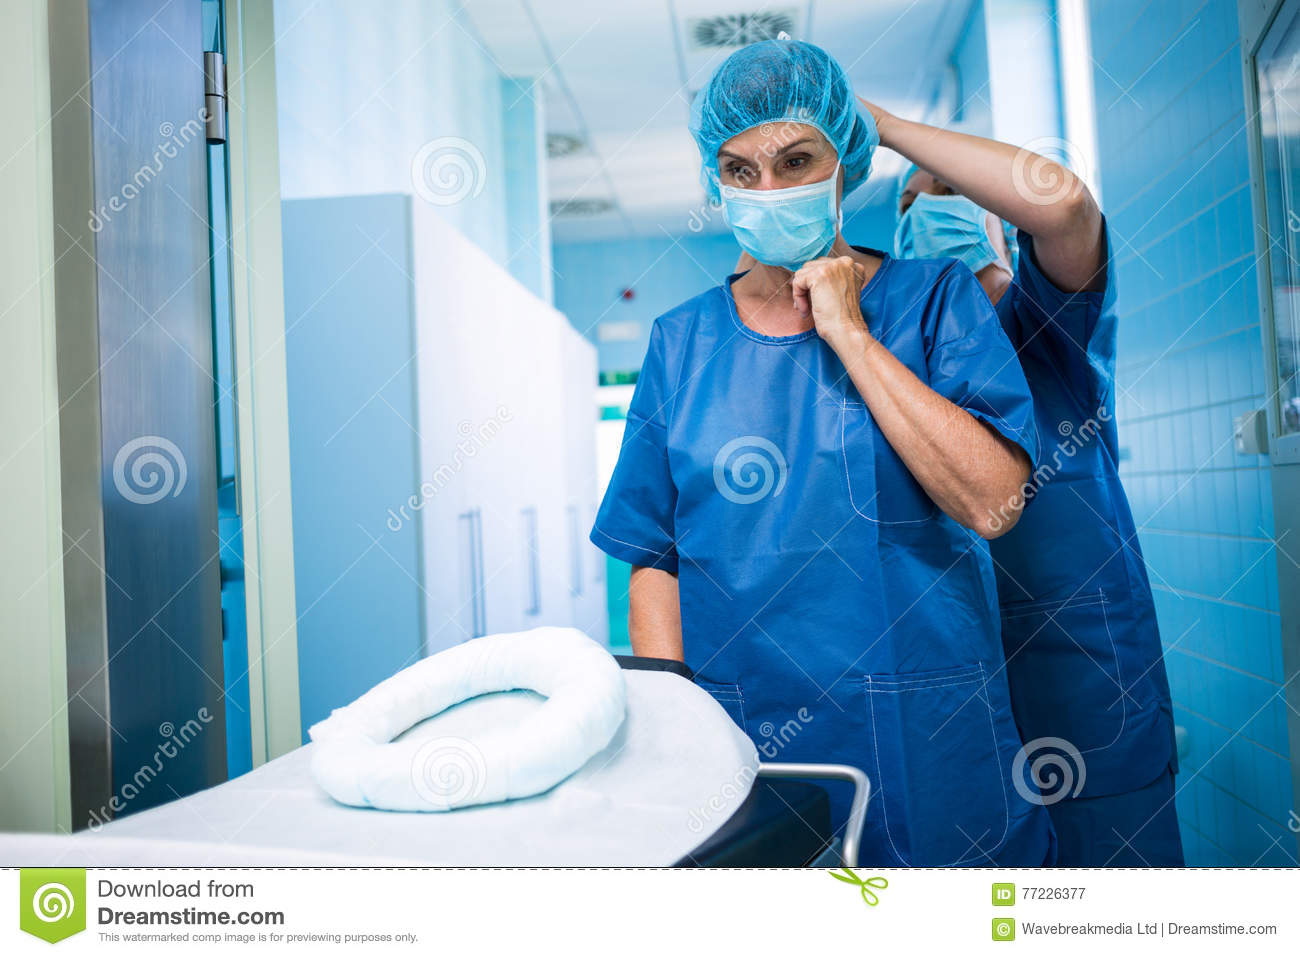mask: (717, 192, 853, 270)
